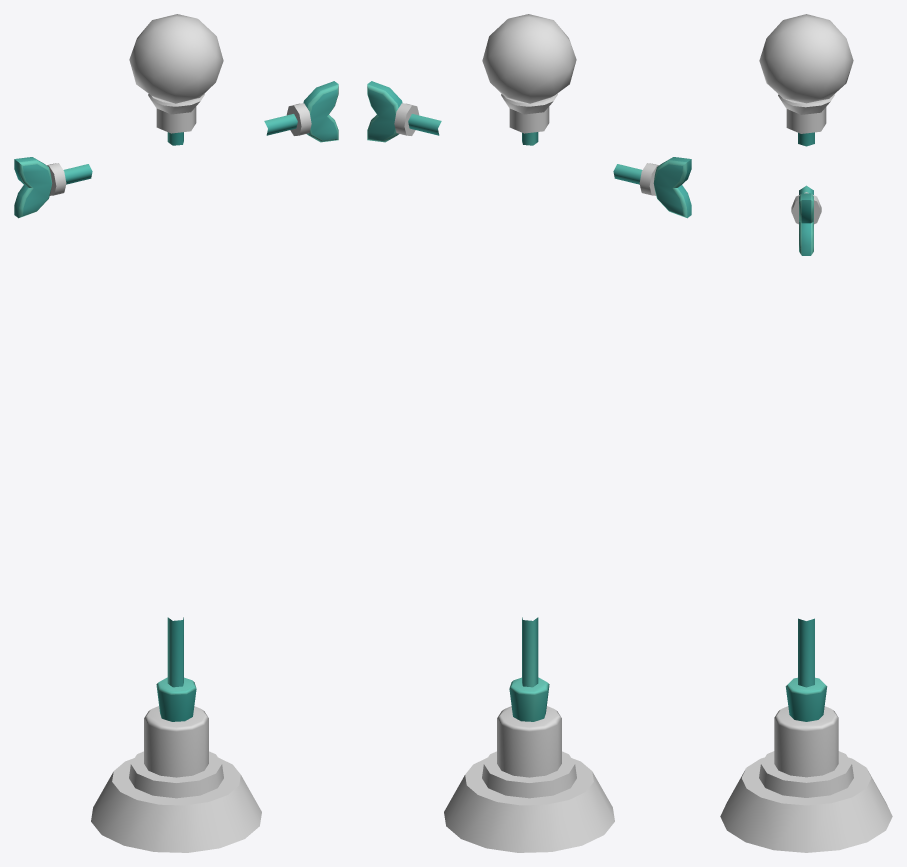
File: DisneyStorePost_1.glb
The picture shows the model from 3 angles, left to right: view 1: azimuth 30°, elevation 25°; view 2: azimuth 150°, elevation 25°; view 3: azimuth 270°, elevation 25°; orthographic projection.
Parts seen in each view (by area): view 1: DisneyStorePost; view 2: DisneyStorePost; view 3: DisneyStorePost.
Part boxes in pixels (bbox=[...]): DisneyStorePost: bbox=[14, 14, 338, 852]; DisneyStorePost: bbox=[367, 14, 691, 852]; DisneyStorePost: bbox=[720, 14, 892, 852].
Size of the model in its own units: 1.59 by 3.79 by 0.7413.
